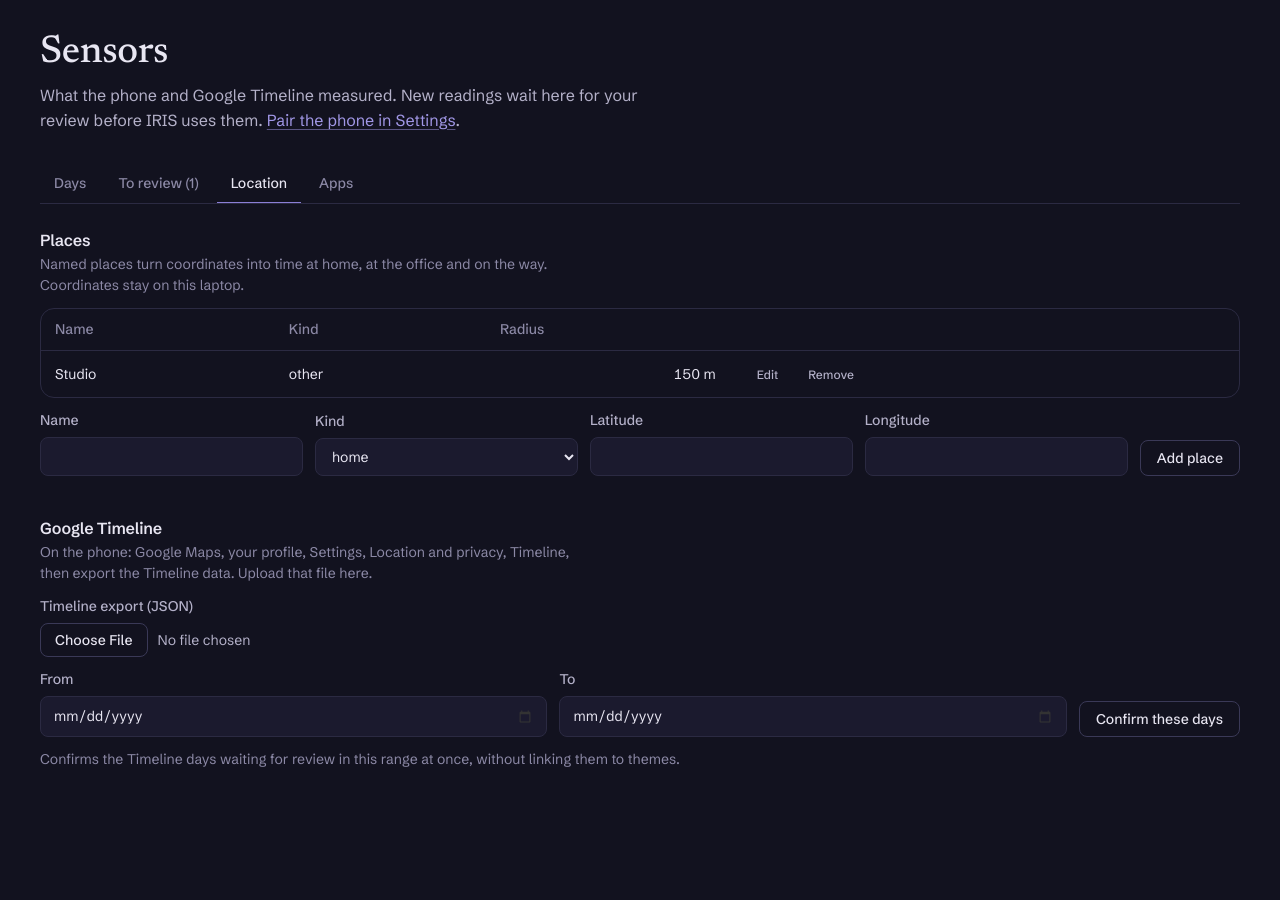
Scenario: sensors › removes a place from its own row
The width and height of the screenshot is (1280, 900).
Click the button with aria-label "Remove Studio" at (831, 374), box [795,360,867,388]
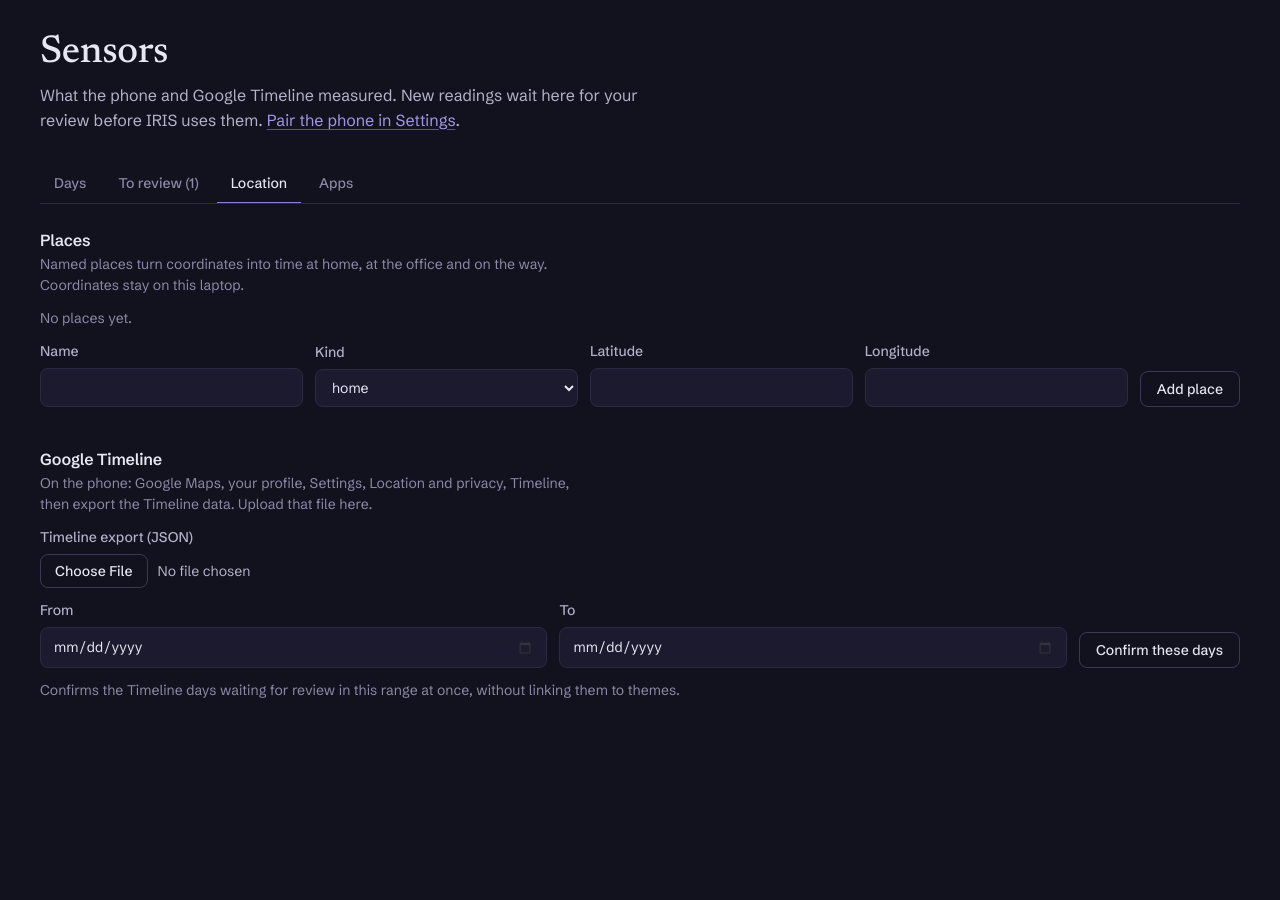
Check: the text "No places yet." is shown, box [40,310,132,328]
